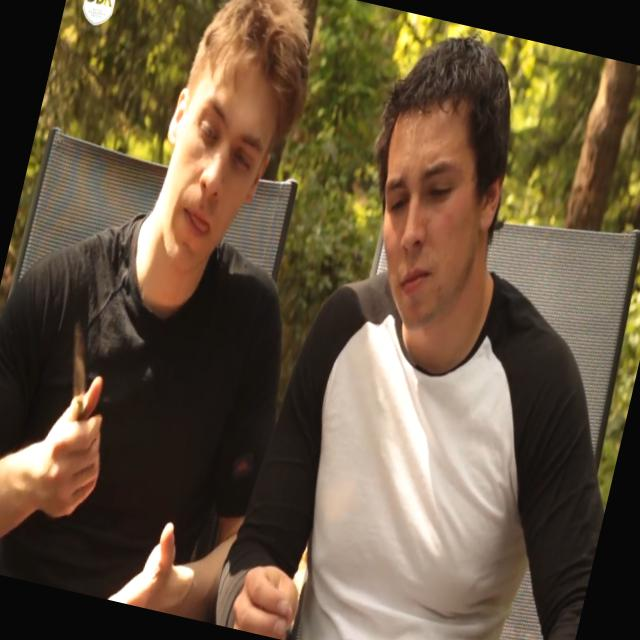knife: (23, 293, 137, 487)
